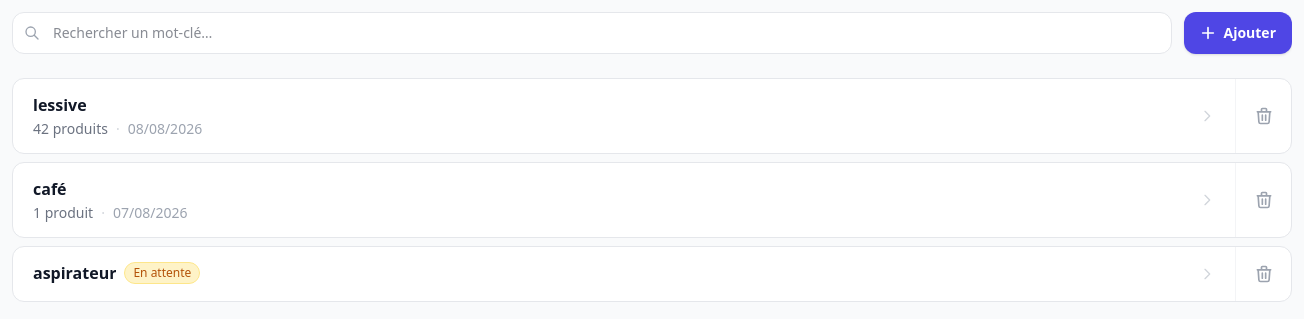
Test case: KeywordDashboard › recherche locale › filtre sans distinction de casse
The width and height of the screenshot is (1304, 319).
Type "LESS" into the search field.
click(592, 33); type("LESS")  # box [12,12,1172,54]
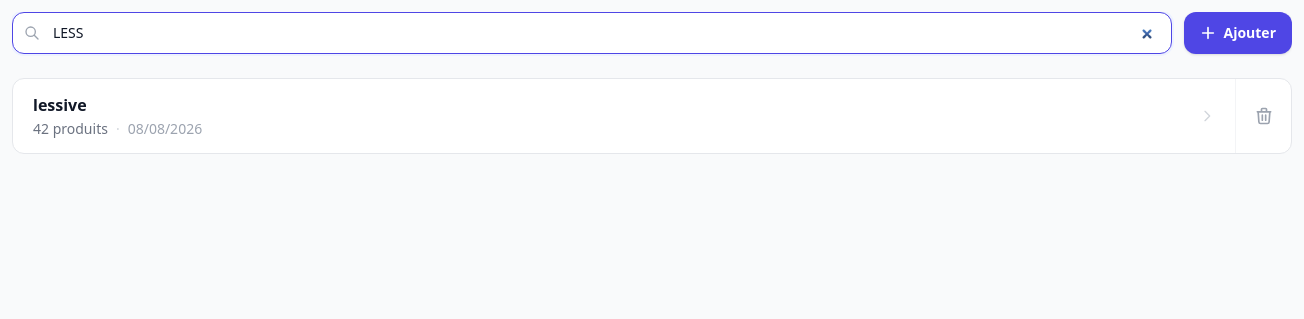
Expected: the text "lessive" is shown, [33,93,87,117]
Expected: the link "café" is gone
